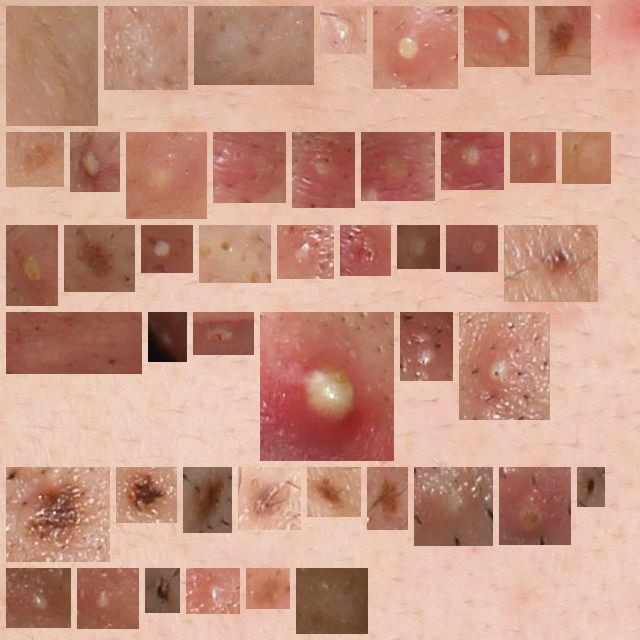hypertrophic_scar: (202, 14, 306, 77), (14, 320, 134, 366), (112, 14, 180, 82), (304, 576, 360, 626), (207, 233, 263, 275), (570, 140, 603, 176)
melasma: (14, 14, 90, 118), (14, 140, 56, 179)
nevus: (14, 475, 102, 554), (512, 233, 590, 294), (72, 233, 127, 284), (246, 475, 293, 522), (543, 14, 583, 67), (124, 475, 169, 515), (191, 475, 224, 525), (315, 475, 353, 509), (375, 475, 400, 522), (254, 576, 282, 601), (153, 576, 172, 605), (585, 475, 597, 499)
pustule: (268, 320, 386, 453), (467, 320, 542, 412), (381, 14, 450, 81), (134, 140, 199, 211), (422, 475, 485, 538), (507, 475, 563, 537), (221, 140, 278, 195), (369, 140, 427, 193), (300, 140, 347, 200), (14, 233, 50, 298), (472, 14, 521, 59), (14, 576, 63, 620), (85, 576, 131, 621), (449, 140, 496, 182), (408, 320, 445, 373), (285, 233, 326, 271), (78, 140, 112, 184), (348, 233, 383, 268), (201, 320, 246, 347), (149, 233, 185, 265), (194, 576, 232, 606), (454, 233, 490, 264), (518, 140, 548, 175), (328, 14, 359, 46), (156, 320, 179, 354), (405, 233, 432, 261)
